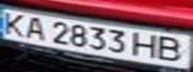2: (45, 18, 72, 46)
3: (106, 27, 130, 55), (87, 25, 109, 52)
8: (66, 21, 90, 50)
A: (21, 15, 48, 42)
B: (154, 34, 190, 63)
H: (130, 30, 163, 60)
K: (0, 10, 30, 37)
